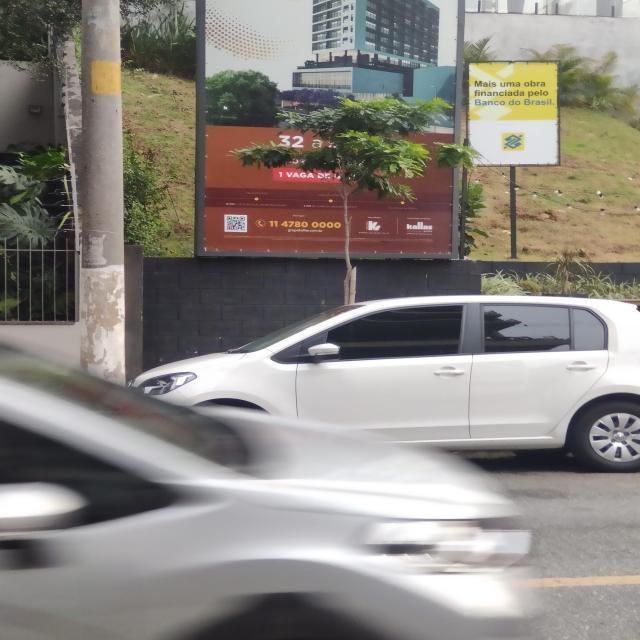qr-code: (227, 217, 245, 230)
